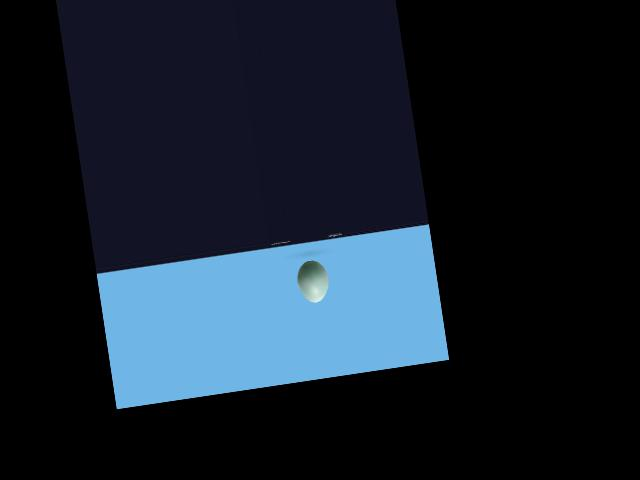egg: (294, 258, 331, 304)
